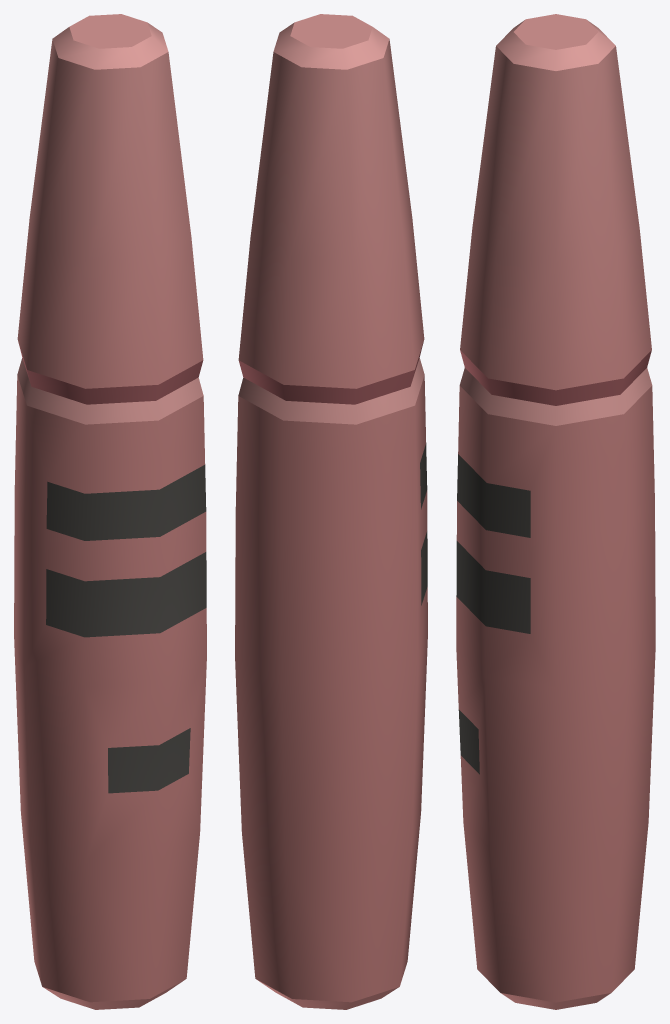
The model's file is Mascara.fbx.
3 renders of one model, left to right at view 1: azimuth 30°, elevation 25°; view 2: azimuth 150°, elevation 25°; view 3: azimuth 270°, elevation 25°, orthographic.
Visible parts, largest first — view 1: Mascara; view 2: Mascara; view 3: Mascara.
Boxes of the visible parts, <box> form: Mascara: <box>14,14,206,1009</box>; Mascara: <box>235,14,427,1009</box>; Mascara: <box>456,14,655,1009</box>.
Bounding box in the file's own units: 0.7017 × 3.7 × 0.7017.
